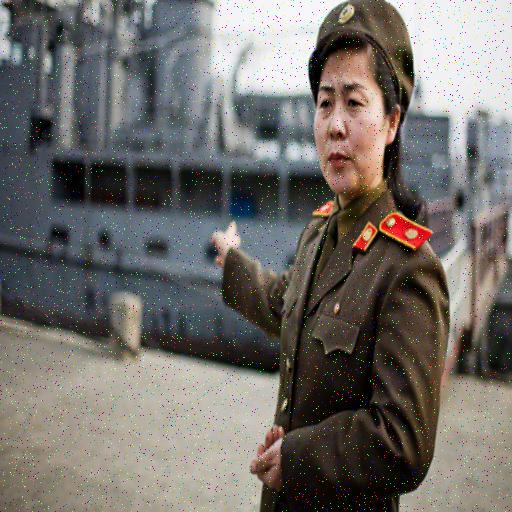north army: (200, 10, 486, 512)
